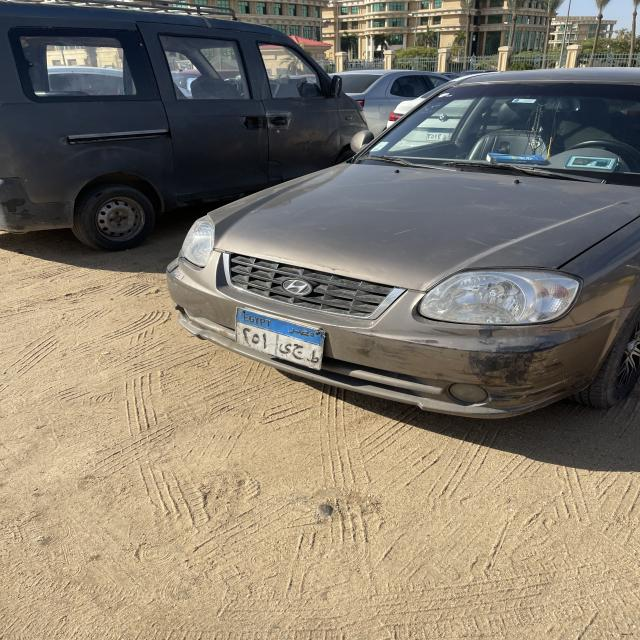License Plate: (235, 307, 326, 370), (426, 128, 454, 140)
